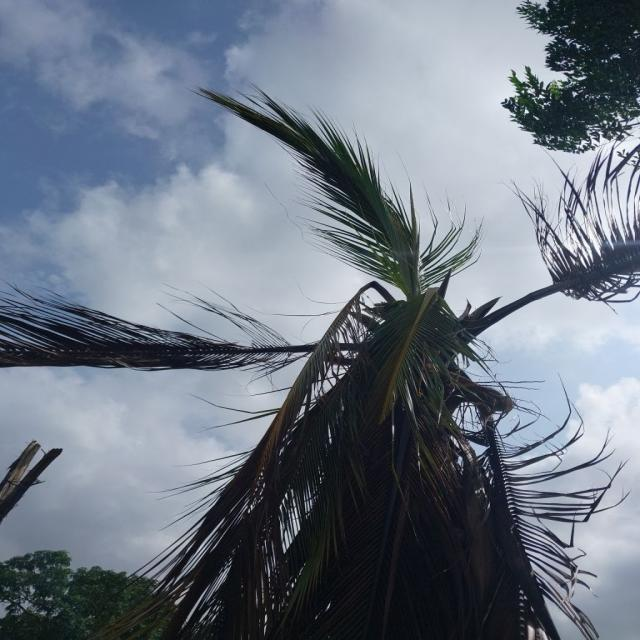bud root dropping: (2, 90, 637, 640)
